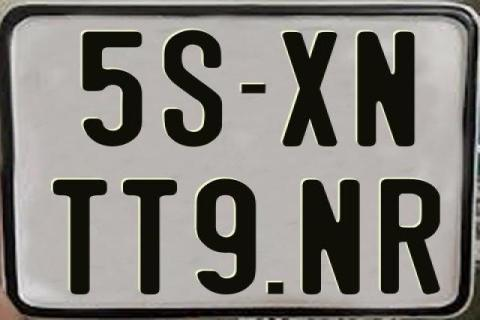0: (196, 179, 261, 297), (81, 31, 147, 146)
N: (300, 178, 362, 294), (357, 29, 417, 147)
R: (381, 178, 442, 296)
S: (162, 29, 225, 151)
T: (53, 178, 113, 298), (121, 180, 180, 296)
X: (281, 29, 341, 149)
